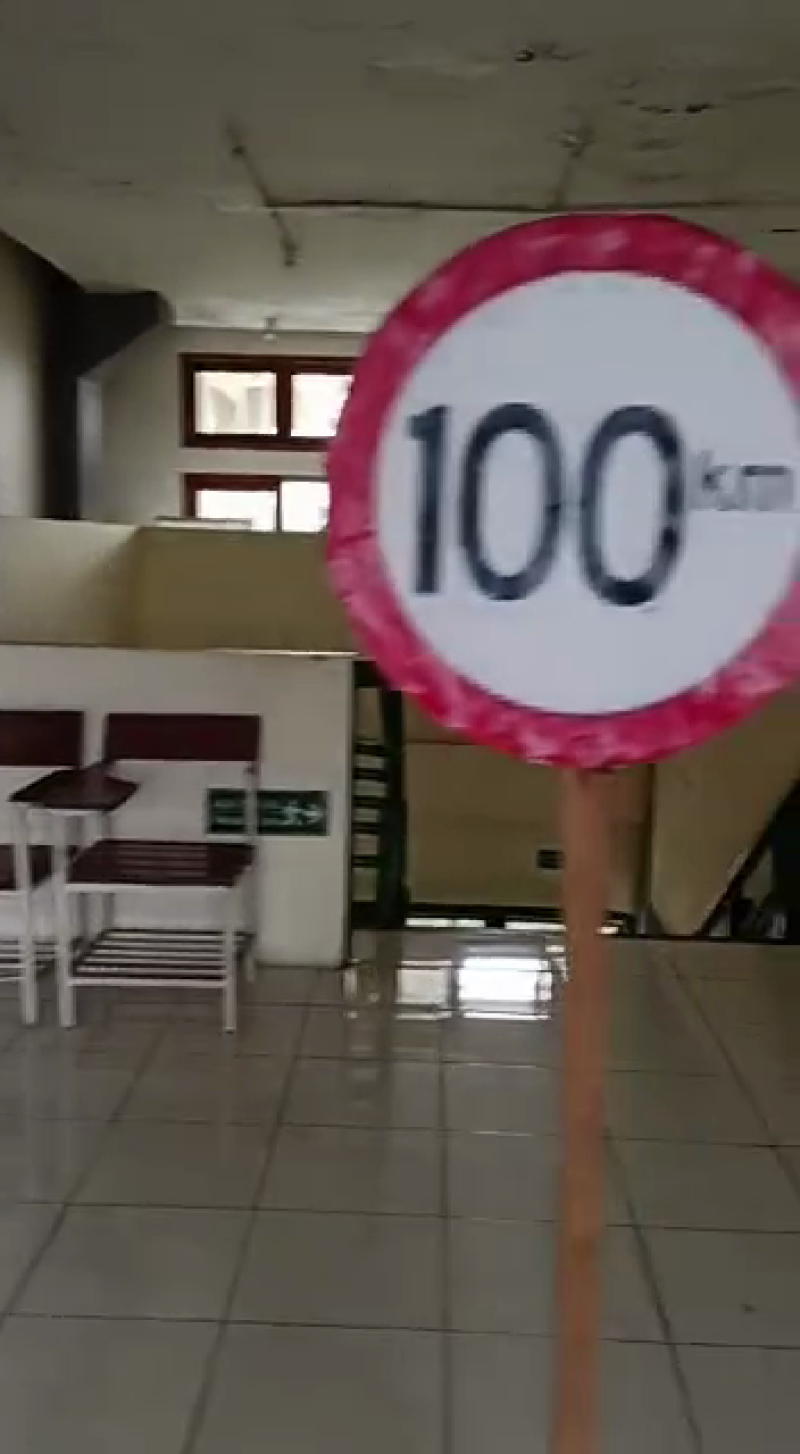batas maksimal 100kmperjam: (314, 196, 800, 773)
